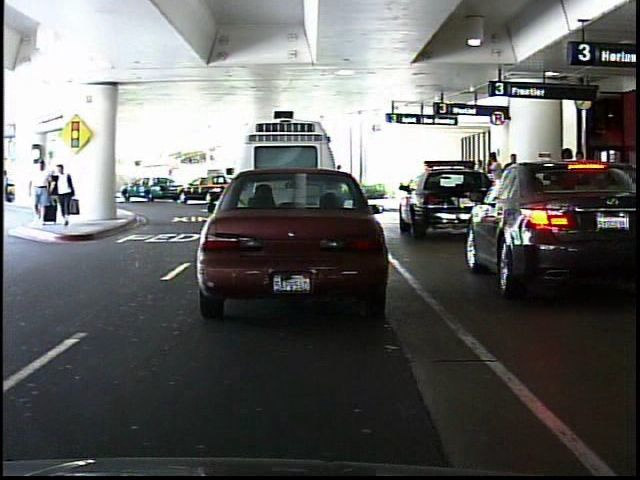person: (482, 147, 513, 221), (53, 160, 77, 229), (32, 153, 54, 225), (328, 157, 350, 202), (2, 168, 18, 207), (162, 164, 180, 198)
